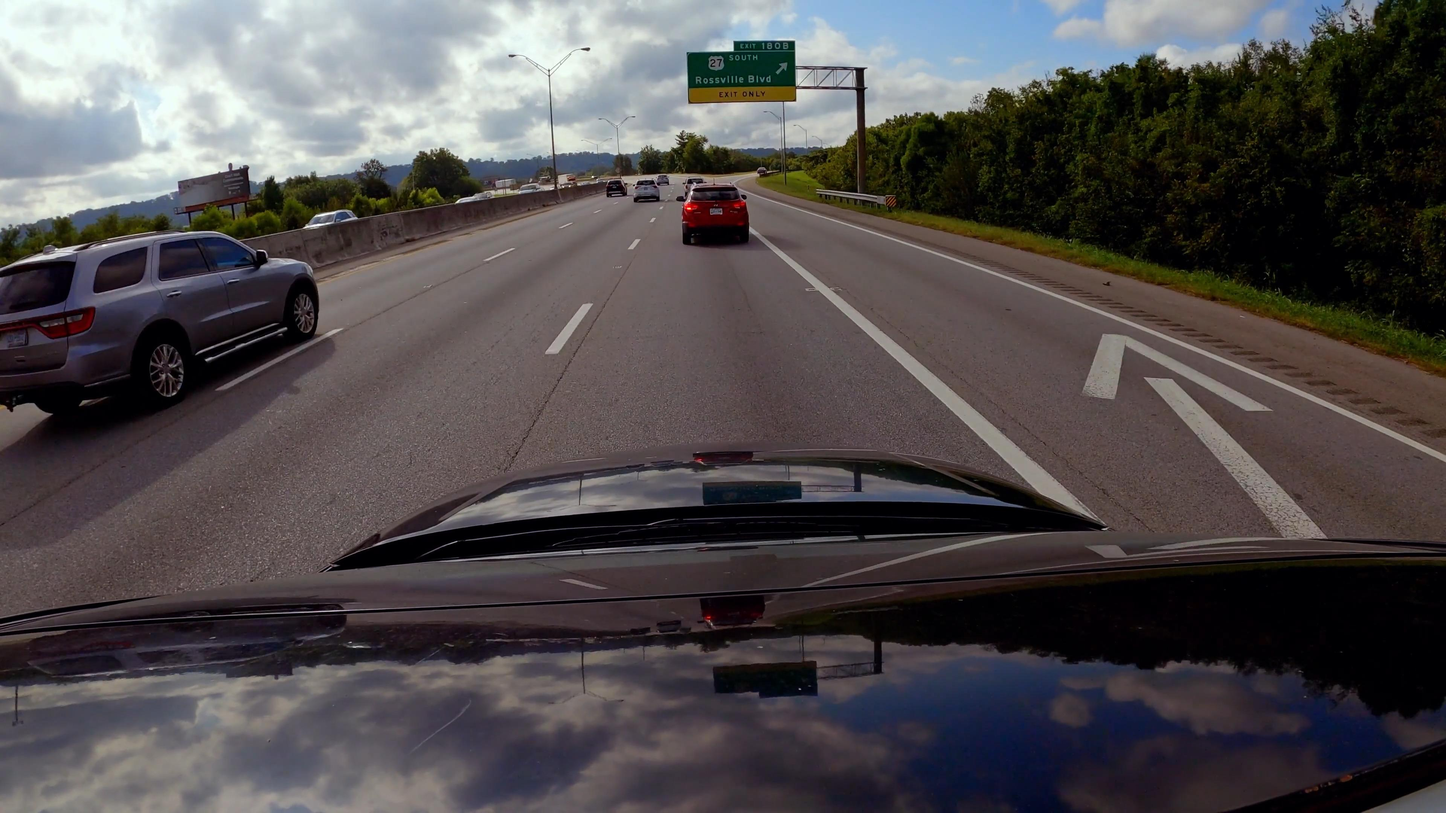dry: (0, 171, 1446, 618)
